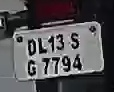1: (47, 35, 56, 53)
3: (55, 33, 66, 52)
4: (72, 53, 84, 74)
7: (40, 56, 51, 76), (52, 55, 61, 76)
9: (60, 54, 73, 74)
D: (25, 37, 37, 57)
G: (27, 60, 40, 76)
L: (36, 37, 48, 54)
S: (69, 33, 80, 51)
